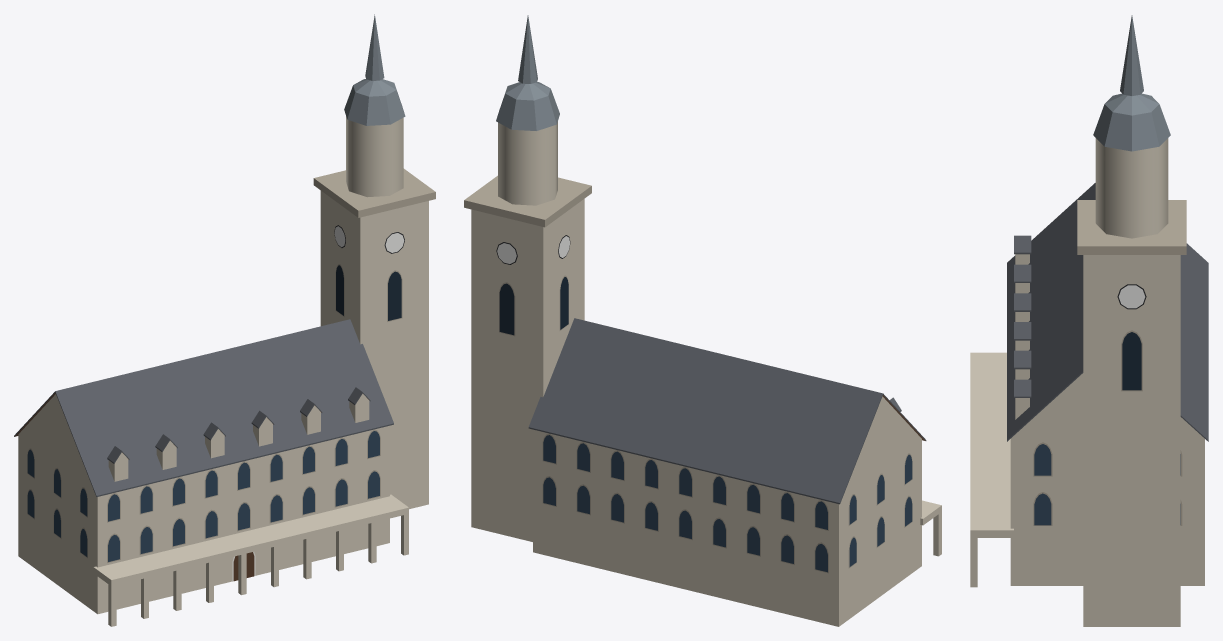
Rendered from hotel_de_ville.glb.
3 views of the same model, side by side, from view 1: azimuth 30°, elevation 25°; view 2: azimuth 150°, elevation 25°; view 3: azimuth 270°, elevation 25° (orthographic). The views are drawn at different scales.
Parts seen in each view (by area): view 1: hotel_de_ville; view 2: hotel_de_ville; view 3: hotel_de_ville.
Boxes of the visible parts, left/top/right/bottom form: hotel_de_ville: left=14, top=14, right=435, bottom=626; hotel_de_ville: left=464, top=15, right=941, bottom=626; hotel_de_ville: left=970, top=15, right=1208, bottom=626.
Bounding box in the file's own units: 42.8 × 53.8 × 19.6.
Materials: 1 (1 with a texture image).
